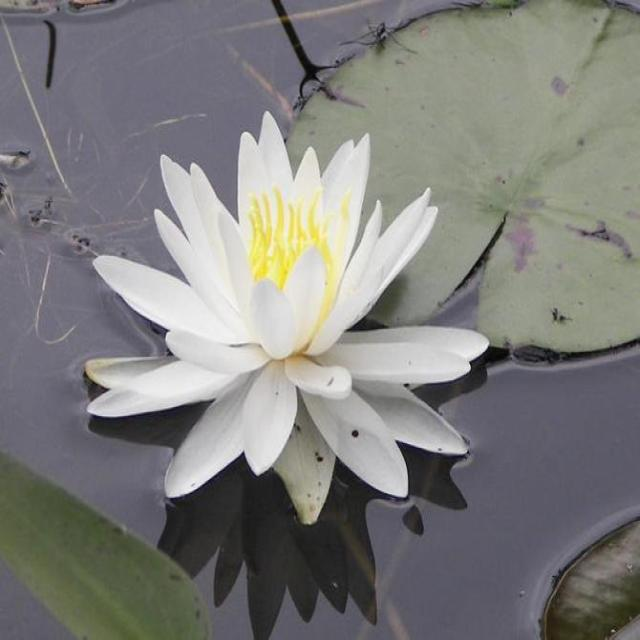water-lily: (74, 97, 502, 578)
